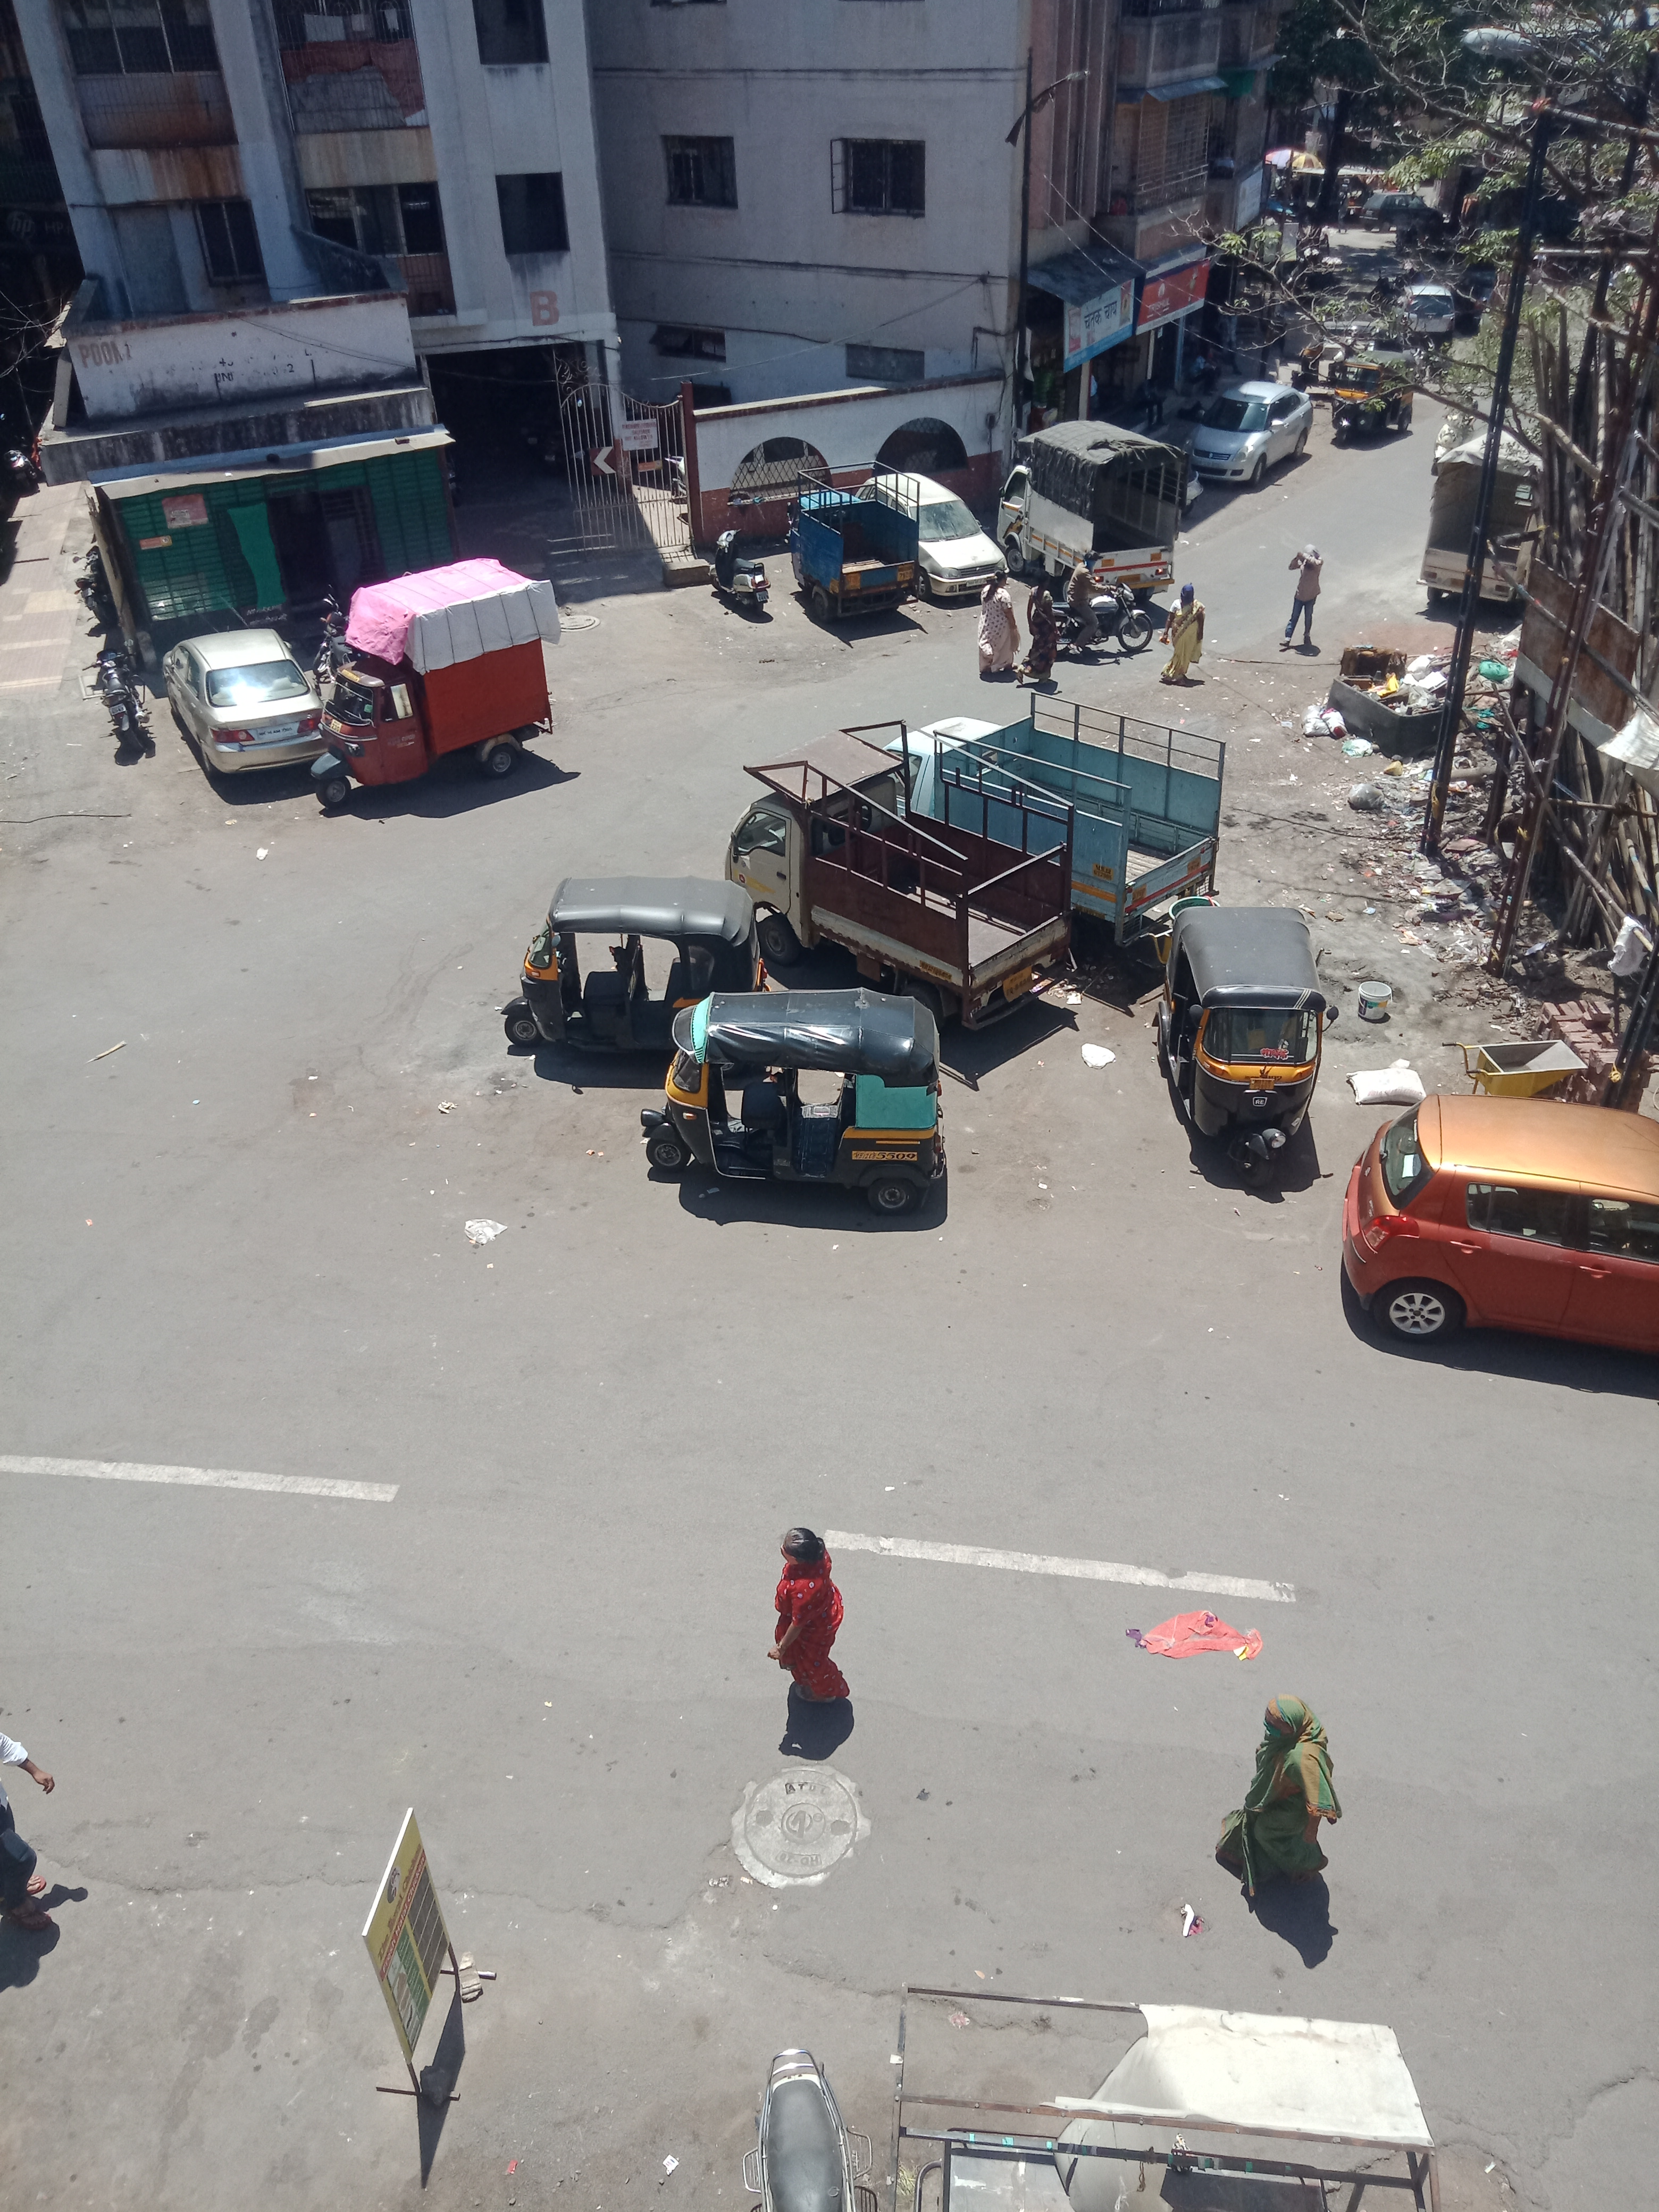auto: (645, 986, 946, 1219), (314, 559, 563, 810), (1152, 907, 1337, 1191), (500, 876, 763, 1057), (786, 458, 920, 622), (1328, 352, 1413, 444), (1291, 322, 1392, 390)
car: (1340, 1097, 1659, 1352), (162, 629, 329, 777), (854, 470, 1009, 601), (1180, 381, 1312, 486), (1387, 286, 1452, 352)
tempo: (723, 719, 1072, 1029), (889, 686, 1225, 949), (1000, 420, 1188, 610), (1417, 427, 1581, 608)
two_wheelers: (1047, 577, 1152, 658), (85, 637, 153, 756), (711, 526, 770, 615), (70, 545, 120, 629), (1431, 408, 1476, 481)
